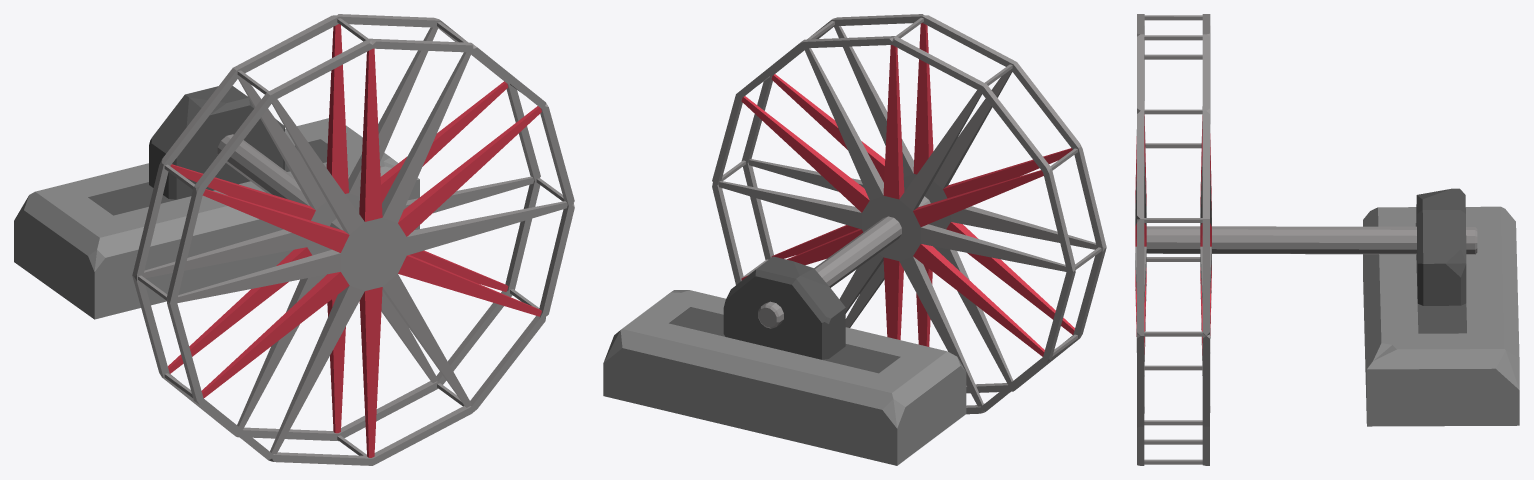
File: 062 Water_Turbine.FBX
The picture shows the model from 3 angles, left to right: view 1: azimuth 30°, elevation 25°; view 2: azimuth 150°, elevation 25°; view 3: azimuth 270°, elevation 25°; orthographic projection. The views are drawn at different scales.
Visible parts, largest first — view 1: Circle001, Box110; view 2: Circle001, Box110; view 3: Box110, Circle001.
Part boxes in pixels (bbox=[...]): Circle001: bbox=[132, 14, 574, 465]; Box110: bbox=[14, 86, 419, 319]; Circle001: bbox=[712, 14, 1106, 414]; Box110: bbox=[603, 256, 966, 465]; Box110: bbox=[1363, 188, 1519, 426]; Circle001: bbox=[1135, 14, 1477, 465].
Bounding box in the file's own units: 1221 × 1221 × 1034.
